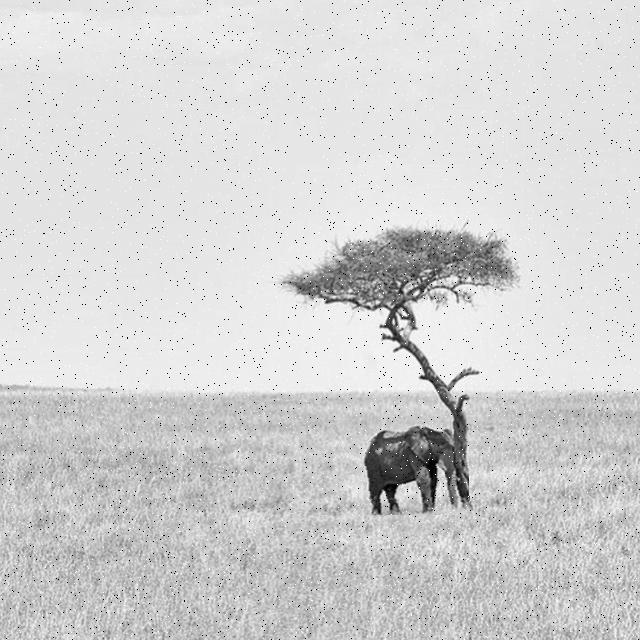elephant: (353, 422, 469, 515)
